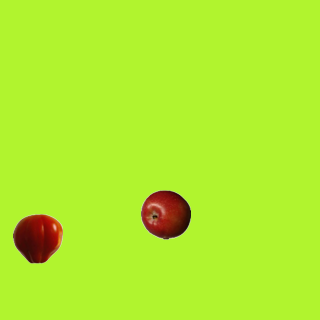Apple Braeburn: (140, 189, 190, 239)
Tomato 1: (12, 213, 62, 263)
